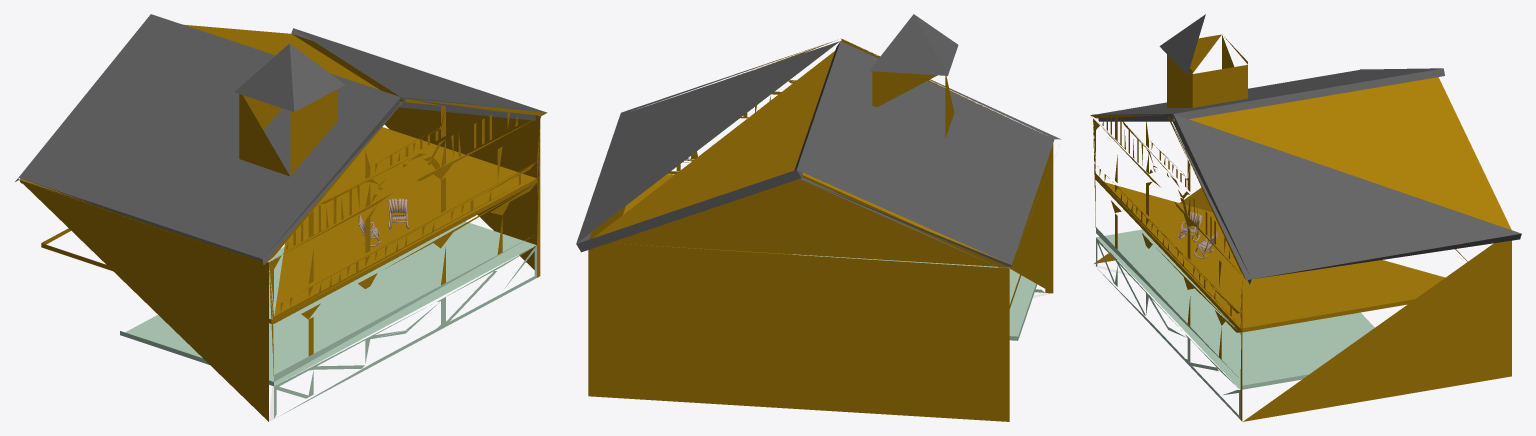
The model's file is porch.gltf.
3 renders of one model, left to right at view 1: azimuth 30°, elevation 25°; view 2: azimuth 150°, elevation 25°; view 3: azimuth 270°, elevation 25°, orthographic. The views are drawn at different scales.
Visible parts, largest first — view 1: Mesh5_PR1_Model, Mesh4_PR1_Model, Mesh6_PR1_Model; view 2: Mesh5_PR1_Model, Mesh6_PR1_Model, Mesh4_PR1_Model; view 3: Mesh5_PR1_Model, Mesh4_PR1_Model, Mesh6_PR1_Model.
Boxes of the visible parts, box(x1,y1,x2,y2) form: Mesh5_PR1_Model: box(15, 14, 547, 421); Mesh4_PR1_Model: box(239, 89, 337, 176); Mesh6_PR1_Model: box(234, 43, 344, 112); Mesh5_PR1_Model: box(576, 38, 1061, 421); Mesh6_PR1_Model: box(869, 14, 958, 75); Mesh4_PR1_Model: box(872, 71, 954, 138); Mesh5_PR1_Model: box(1090, 68, 1521, 421); Mesh4_PR1_Model: box(1167, 34, 1247, 107); Mesh6_PR1_Model: box(1159, 14, 1205, 75).
Bounding box in the file's own units: 2399 × 1524 × 2078.
